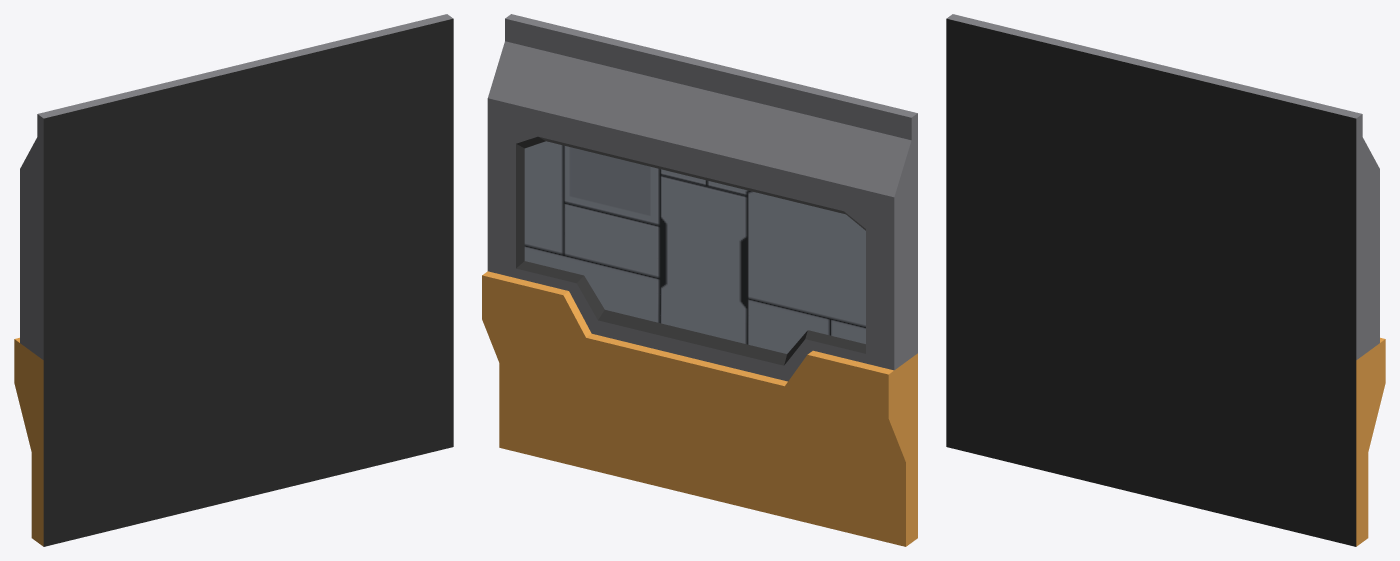
Rendered from SM_Bld_Wall_Exterior_03.fbx.
3 renders of one model, left to right at view 1: azimuth 30°, elevation 25°; view 2: azimuth 150°, elevation 25°; view 3: azimuth 330°, elevation 25°, orthographic.
Visible parts, largest first — view 1: SM_Bld_Wall_Exterior_03_LOD0; view 2: SM_Bld_Wall_Exterior_03_LOD0; view 3: SM_Bld_Wall_Exterior_03_LOD0.
Boxes of the visible parts, bbox=[...] form: SM_Bld_Wall_Exterior_03_LOD0: bbox=[14, 14, 453, 546]; SM_Bld_Wall_Exterior_03_LOD0: bbox=[482, 14, 917, 546]; SM_Bld_Wall_Exterior_03_LOD0: bbox=[946, 14, 1385, 546].
Bounding box in the file's own units: 62.08 × 500 × 500.
1 material, 1 textured.
